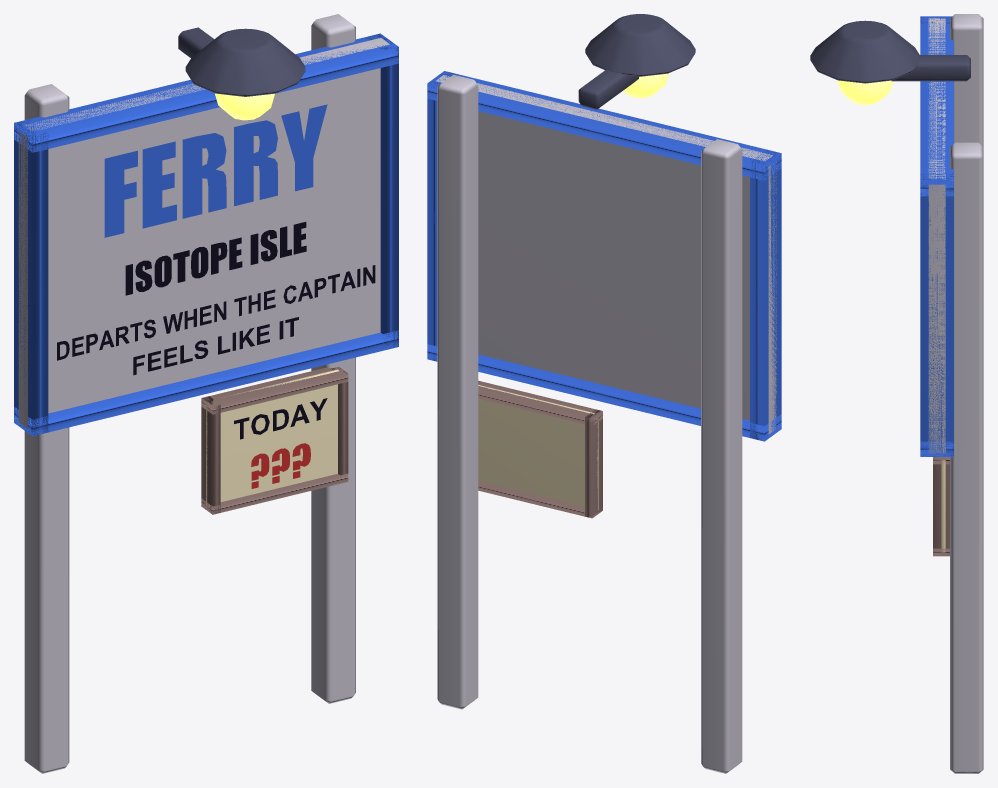
File: ferry_sign.glb
The picture shows the model from 3 angles, left to right: view 1: azimuth 30°, elevation 25°; view 2: azimuth 150°, elevation 25°; view 3: azimuth 270°, elevation 25°; orthographic projection. The views are drawn at different scales.
Visible parts, largest first — view 1: Sign; view 2: Sign; view 3: Sign.
Part boxes in pixels (x1,y1,x2,y2): Sign: (14,14,398,773); Sign: (427,14,781,773); Sign: (810,14,983,773).
Size of the model in its own units: 0.92 by 1.76 by 0.4102.
